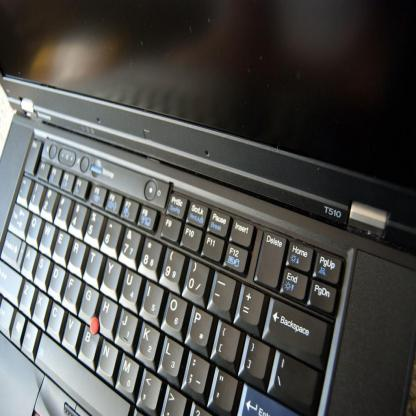board: (0, 0, 412, 416)
